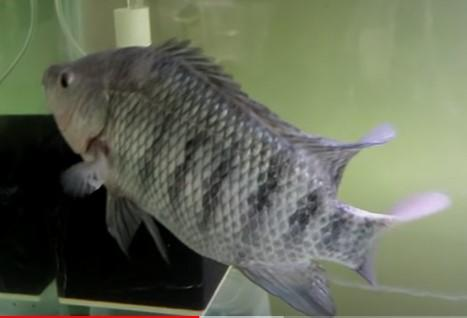Tilapia: (38, 25, 416, 312)
